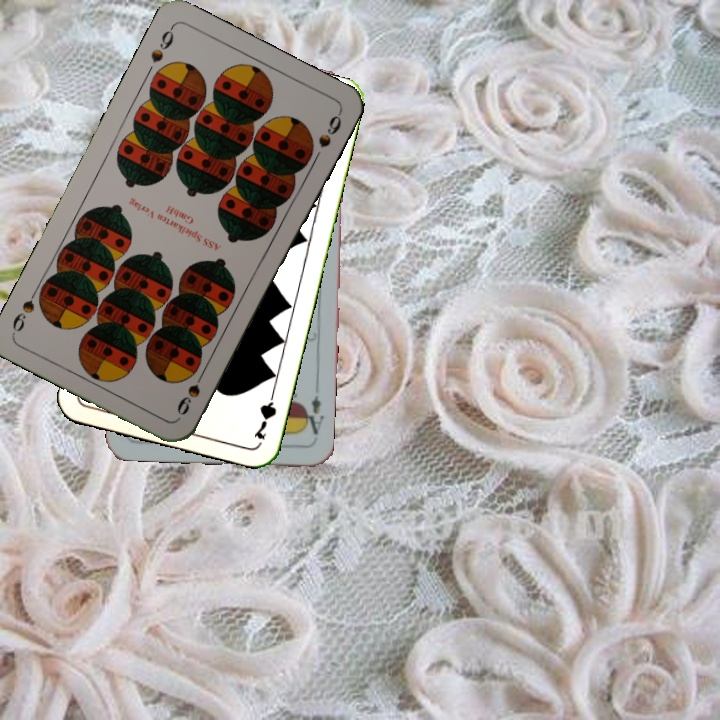EA: (299, 392, 327, 437)
G7: (249, 384, 279, 442)
S9: (172, 365, 208, 418), (147, 22, 177, 65)
